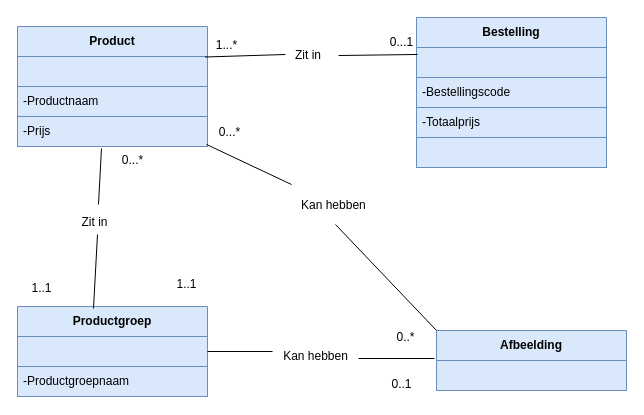
The diagram is 644 pixels wide and 415 high, and some of its shapes have lost their labels. The shapes that lost their labels are listed below. From the top down, each one's centre as x and y in pixels, then its label:
At point 112,71: "-Productcode".
At point 511,62: "-Klant".
At point 511,152: "-Moment van bestelling".
At point 112,351: "-Productgroepcode".
At point 531,375: "-Link naar plaatje".
